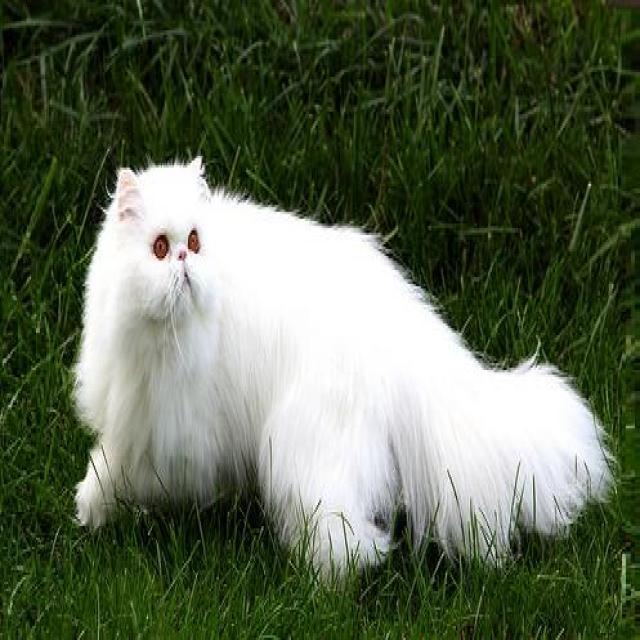Persian: (105, 145, 230, 354)
